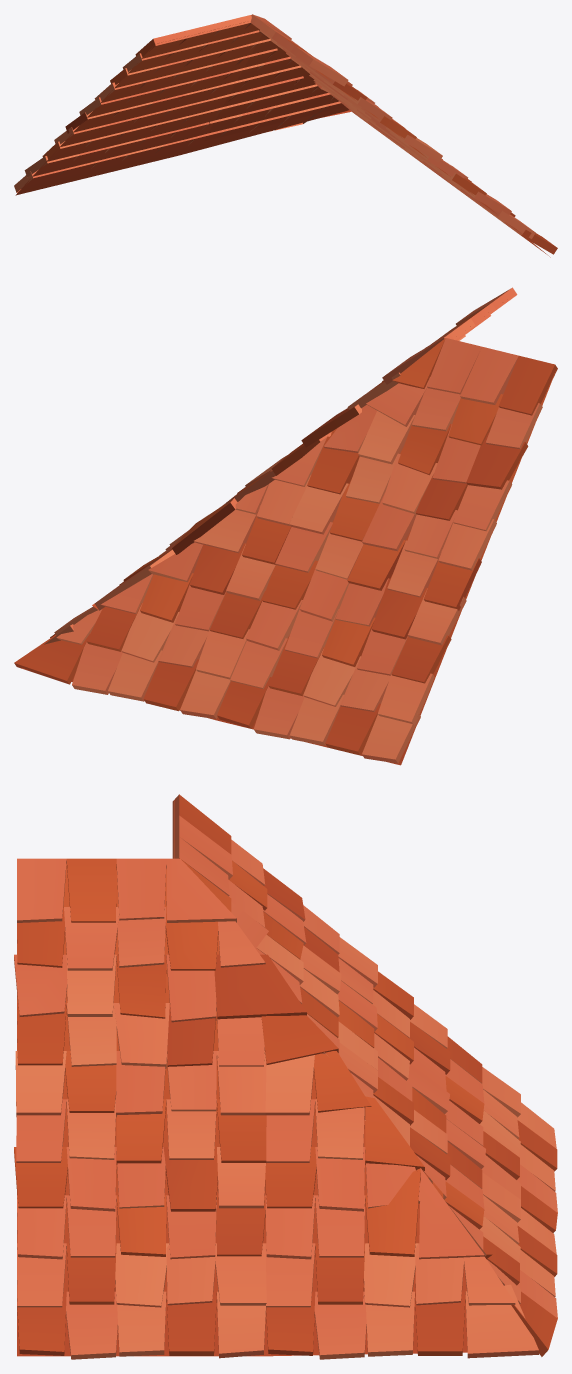
The model's file is roof corner fantasy.fbx.
3 renders of one model, top to bottom at view 1: azimuth 30°, elevation 25°; view 2: azimuth 150°, elevation 25°; view 3: azimuth 270°, elevation 25°, orthographic. The views are drawn at different scales.
Parts seen in each view (by area): view 1: roof1_1_blue, roof1_1_blue__1_, roof1_1_blue__2_, roof1_1_blue__3_; view 2: roof1_1_blue, roof1_1_blue__1_, roof1_1_blue__3_, roof1_1_blue__2_; view 3: roof1_1_blue__2_, roof1_1_blue__3_, roof1_1_blue, roof1_1_blue__1_.
Part boxes in pixels (x1,y1,x2,y2): roof1_1_blue: (14,15,277,195); roof1_1_blue__1_: (178,24,351,155); roof1_1_blue__2_: (250,14,557,257); roof1_1_blue__3_: (285,51,428,167); roof1_1_blue: (217,338,557,765); roof1_1_blue__1_: (14,428,351,720); roof1_1_blue__3_: (44,432,331,644); roof1_1_blue__2_: (159,287,517,555); roof1_1_blue__2_: (14,858,306,1359); roof1_1_blue__3_: (214,935,538,1359); roof1_1_blue: (172,794,557,1233); roof1_1_blue__1_: (307,1014,557,1356).
Bounding box in the file's own units: 51.13 × 36.47 × 52.28.
1 material, 1 textured.
